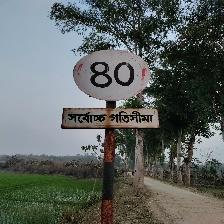Speed-limit: (63, 49, 159, 131)
